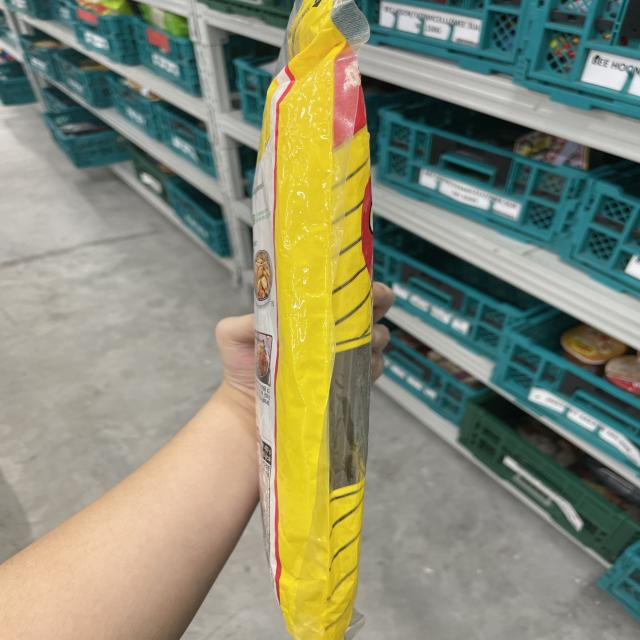object_name: (256, 60, 364, 630)
